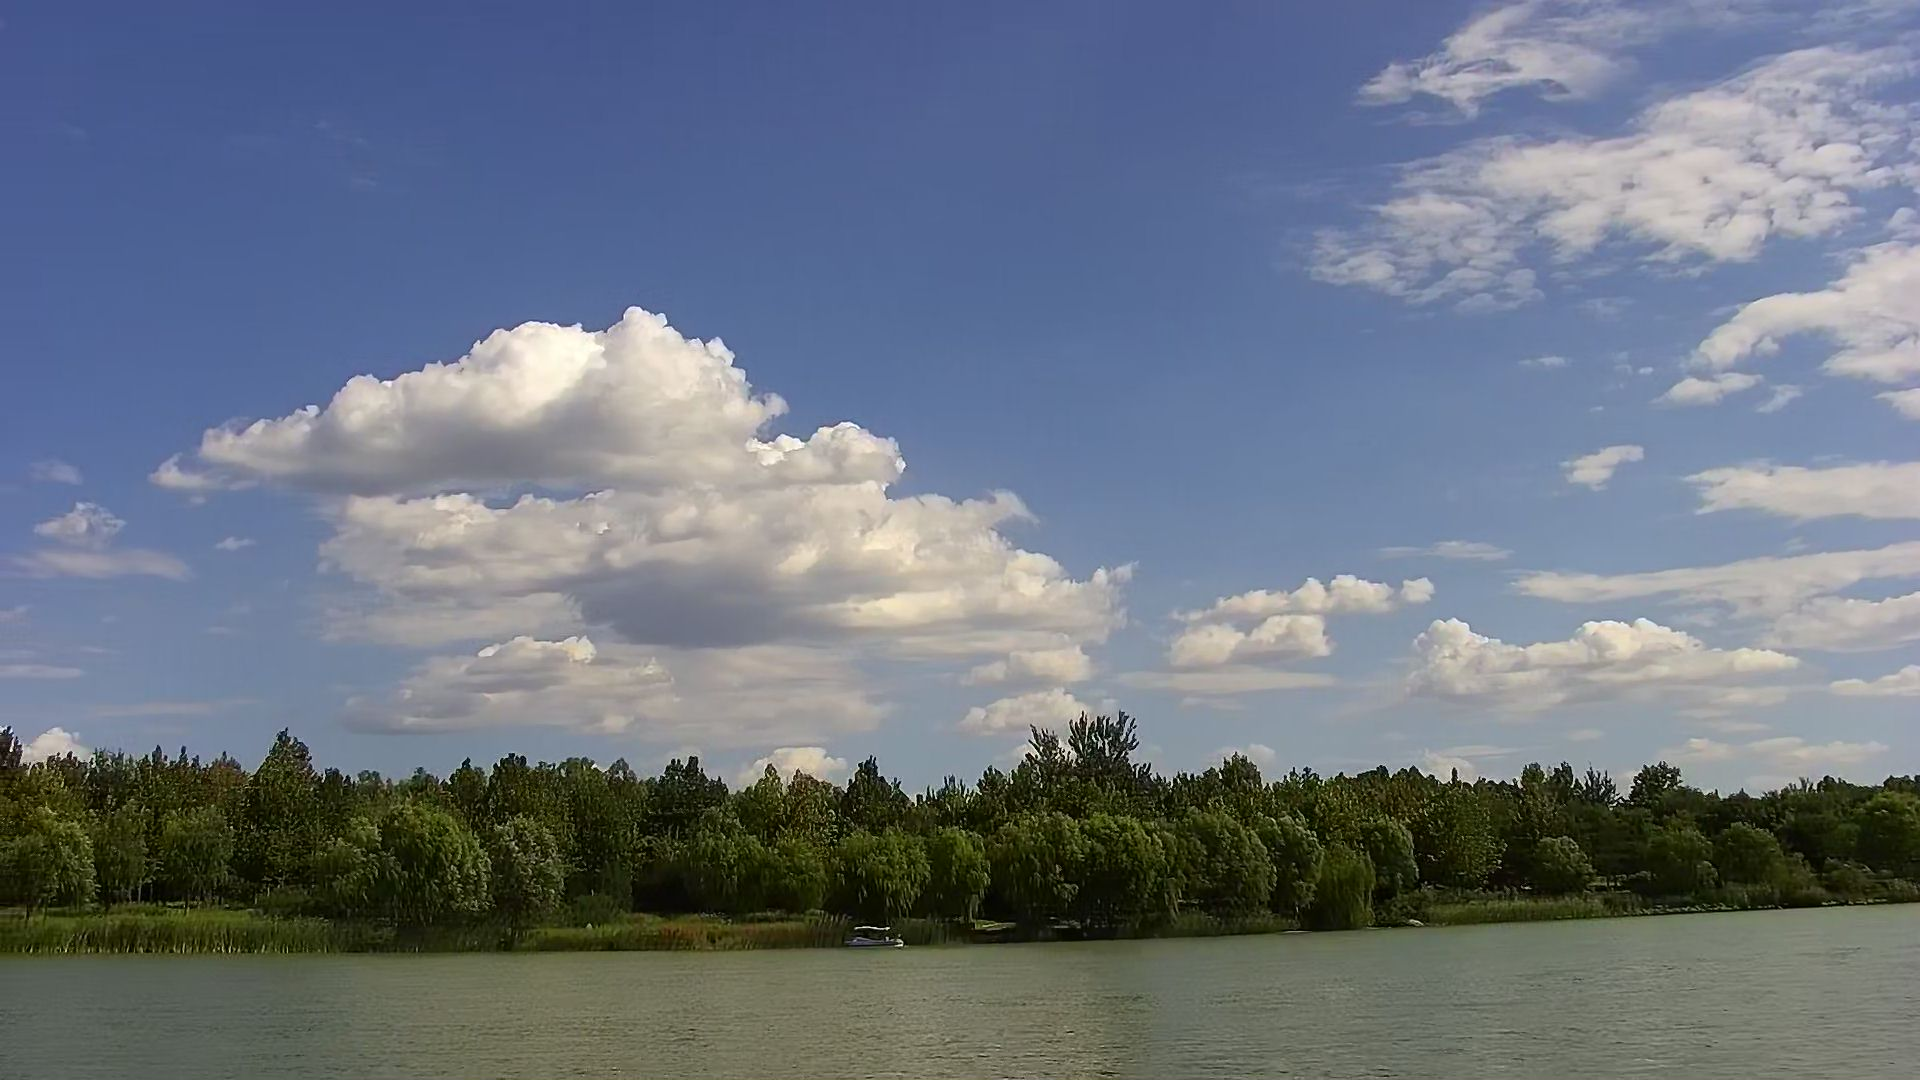boat: (837, 922, 909, 949)
